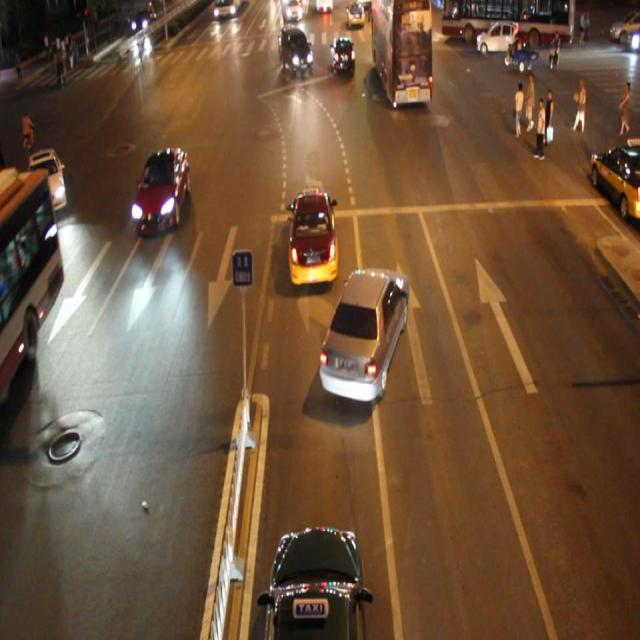car: (319, 265, 409, 399), (264, 524, 364, 640), (287, 188, 339, 284), (132, 146, 190, 231), (27, 149, 66, 212), (280, 28, 314, 75), (331, 35, 356, 76)
van: (1, 169, 65, 390), (370, 1, 430, 103)
